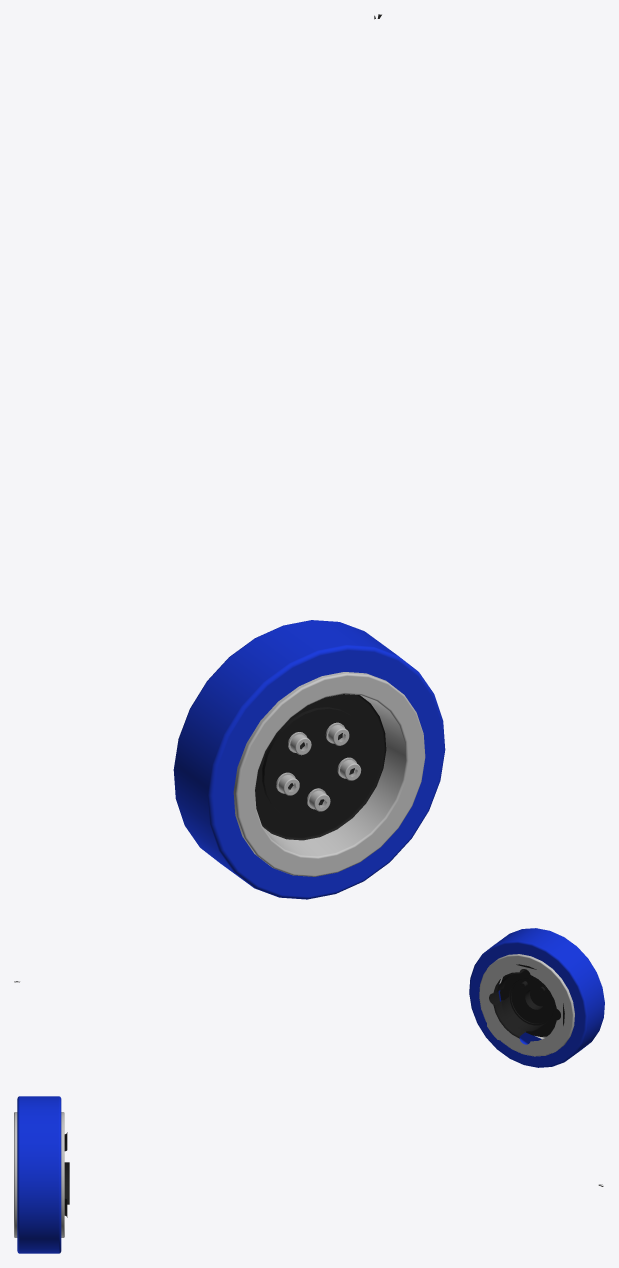
Rendered from wheel.dae.
The picture shows the model from 3 angles, top to bottom: view 1: azimuth 30°, elevation 25°; view 2: azimuth 150°, elevation 25°; view 3: azimuth 270°, elevation 25°; orthographic projection. The views are drawn at different scales.
Parts seen in each view (by area): view 1: MIR200.001; view 2: MIR200.001; view 3: MIR200.001.
Part boxes in pixels (x1=…): MIR200.001: x1=173, y1=14, x2=445, y2=899; MIR200.001: x1=14, y1=928, x2=604, y2=1067; MIR200.001: x1=14, y1=1096, x2=603, y2=1253.
Size of the model in its own units: 0.3572 by 0.4661 by 0.1894.
